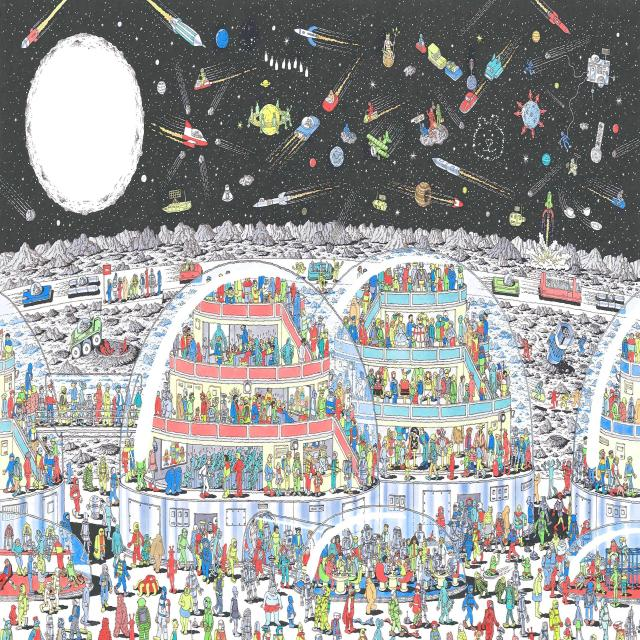waldo: (256, 393, 262, 402)
